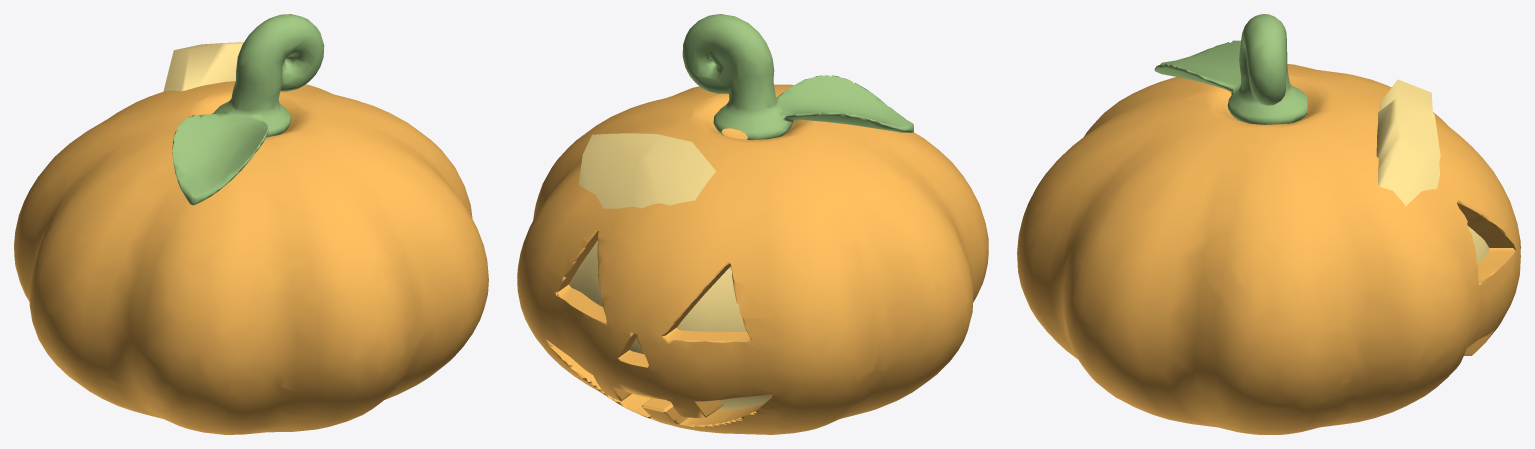
File: PumpkinHat.glb
The picture shows the model from 3 angles, left to right: view 1: azimuth 30°, elevation 25°; view 2: azimuth 150°, elevation 25°; view 3: azimuth 270°, elevation 25°; orthographic projection. The views are drawn at different scales.
Visible parts, largest first — view 1: HatShell, HatStem, HatGlow; view 2: HatShell, HatStem, HatGlow; view 3: HatShell, HatStem, HatGlow.
Part boxes in pixels (bbox=[...]): HatShell: bbox=[14, 81, 488, 434]; HatStem: bbox=[172, 14, 324, 205]; HatGlow: bbox=[163, 42, 243, 91]; HatShell: bbox=[517, 84, 988, 434]; HatStem: bbox=[682, 14, 913, 139]; HatGlow: bbox=[569, 133, 771, 410]; HatShell: bbox=[1017, 64, 1520, 434]; HatStem: bbox=[1154, 14, 1307, 124]; HatGlow: bbox=[1376, 79, 1489, 263].
Bounding box in the file's own units: 1.58 × 1.36 × 1.58.
